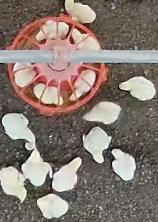chick: (2, 111, 36, 146), (22, 148, 51, 187), (82, 126, 112, 163), (51, 158, 81, 191), (119, 76, 157, 102), (0, 166, 27, 202), (81, 101, 121, 124), (111, 148, 137, 181), (69, 69, 96, 100), (36, 193, 68, 219), (69, 28, 100, 51), (36, 19, 68, 41), (12, 60, 37, 87), (33, 83, 62, 106)
rice: (6, 12, 108, 116)
